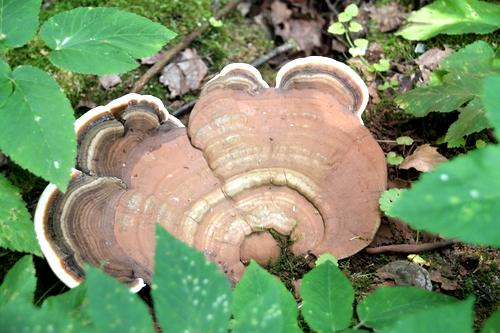Ganoderma - Fruit Body: (32, 53, 389, 301)
